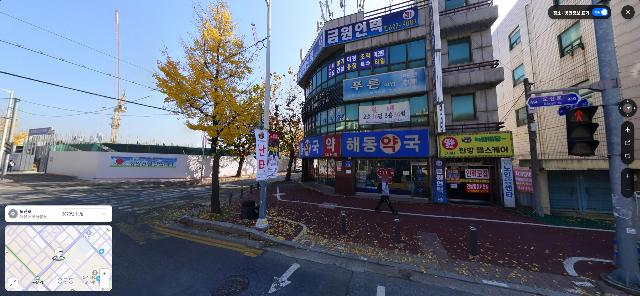ginkgo: (147, 0, 275, 219)
